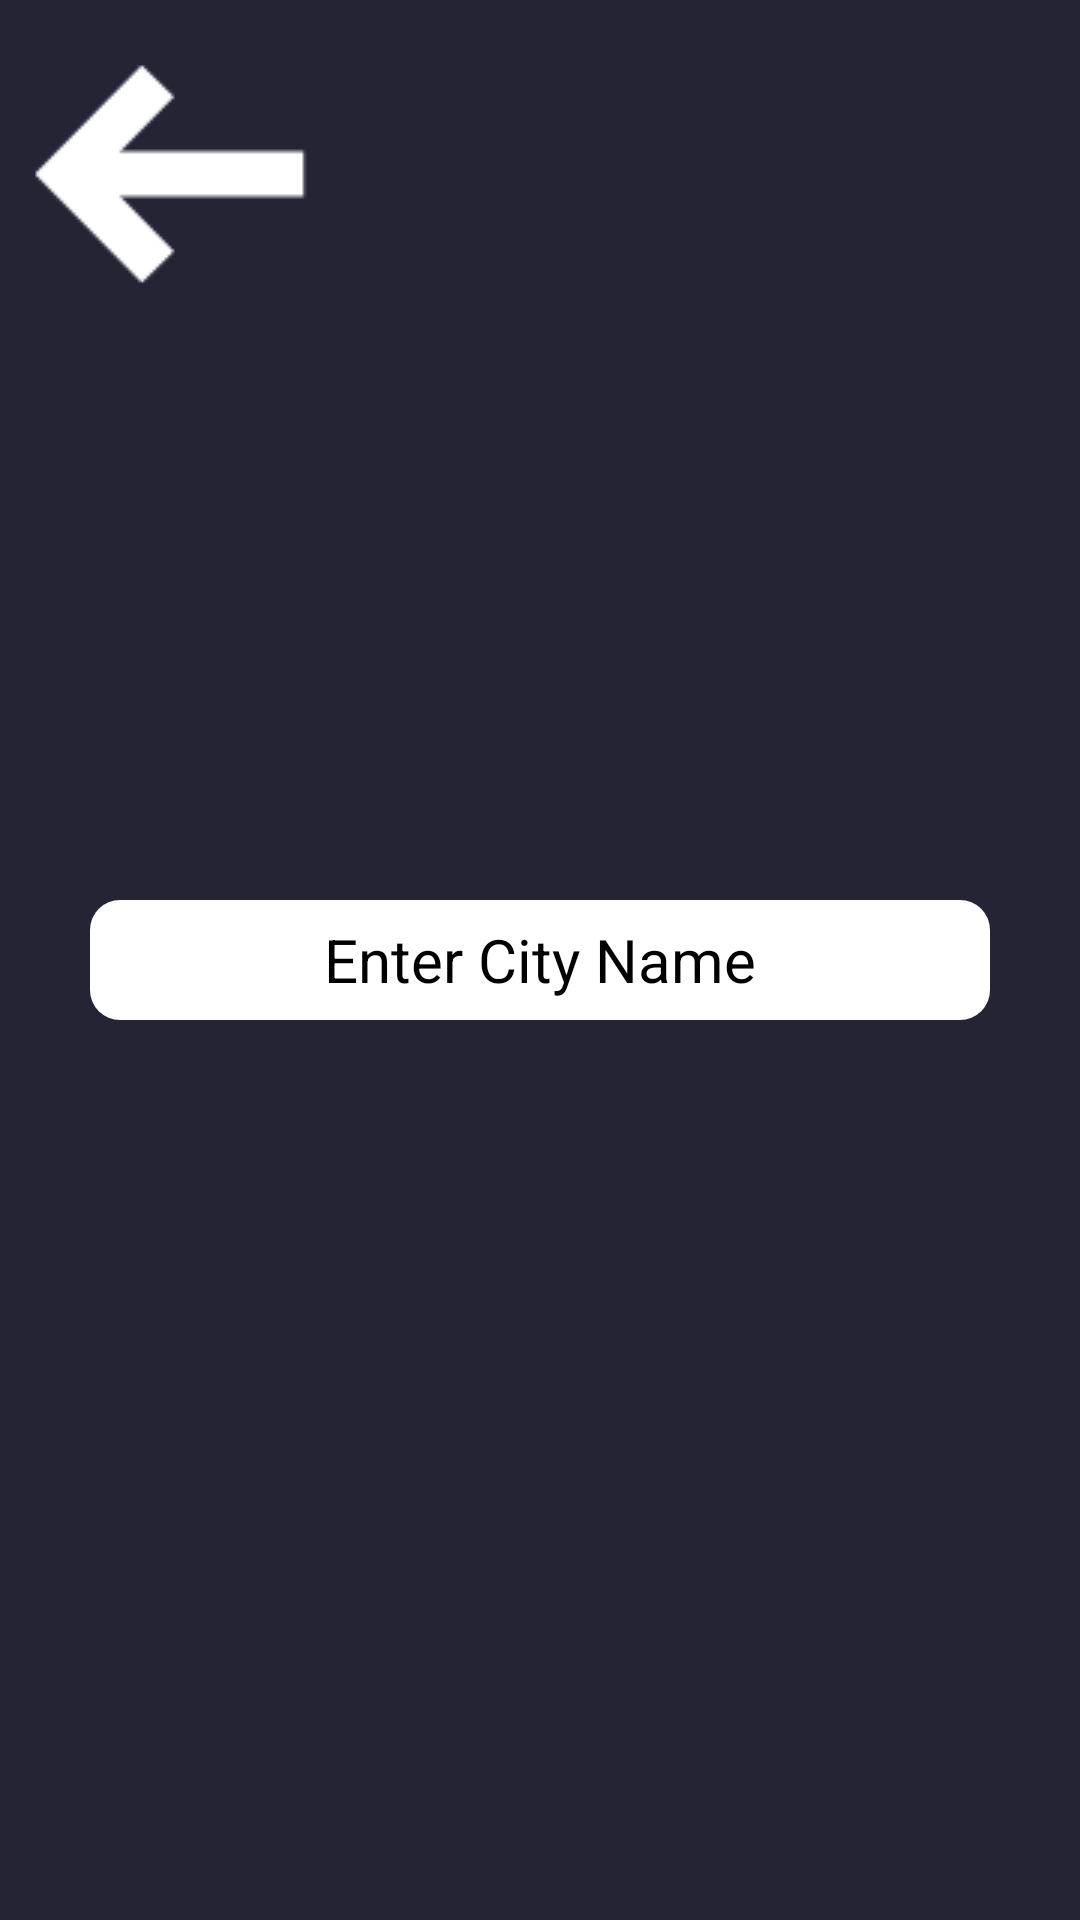

Icon bounding boxes for this 1080×1920 phone screenshot, format (x1, y1, x2, y2):
left: (35, 65, 306, 283)
